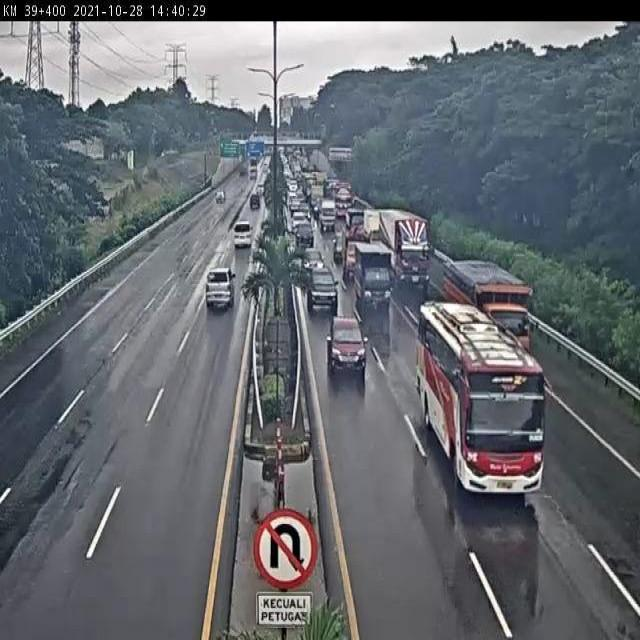car: (327, 312, 367, 365), (204, 266, 237, 310), (307, 265, 337, 307), (231, 224, 255, 255), (299, 244, 320, 271)
truck: (421, 299, 546, 497), (429, 252, 533, 387), (376, 208, 433, 284), (353, 239, 392, 305), (340, 224, 372, 277)
